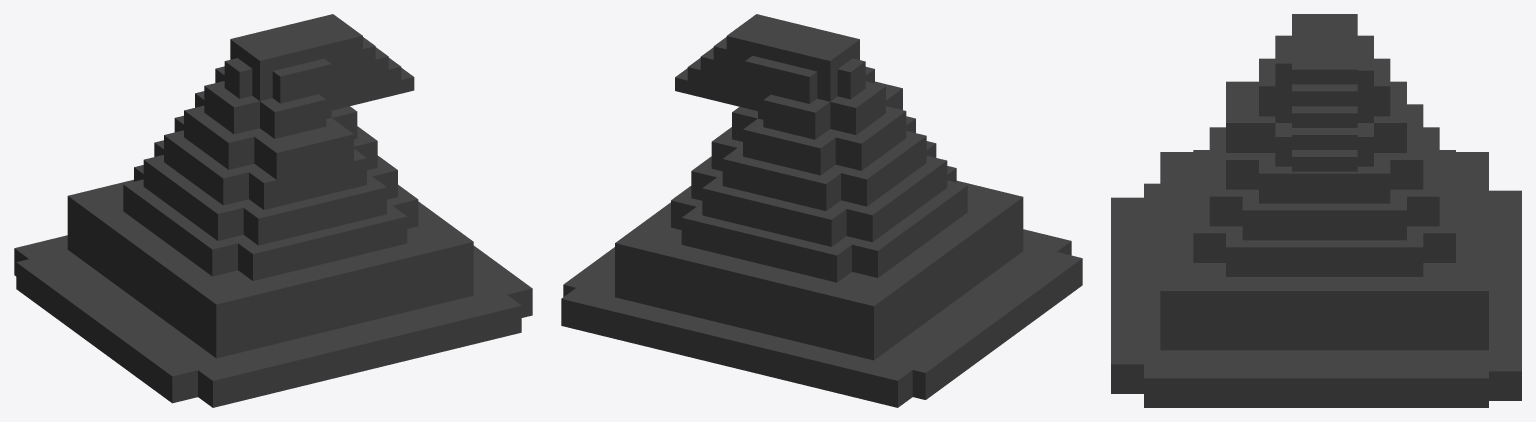
3 views of the same model, side by side, from view 1: azimuth 30°, elevation 25°; view 2: azimuth 150°, elevation 25°; view 3: azimuth 270°, elevation 25° (orthographic). The views are drawn at different scales.
Visible parts, largest first — view 1: 101; view 2: 101; view 3: 101.
Boxes of the visible parts, x1=… form: 101: x1=14, y1=14, x2=532, y2=407; 101: x1=561, y1=14, x2=1082, y2=407; 101: x1=1111, y1=14, x2=1521, y2=407.
Size of the model in its own units: 2.8 by 1.9 by 2.5.
Materials: 1 (1 with a texture image).
